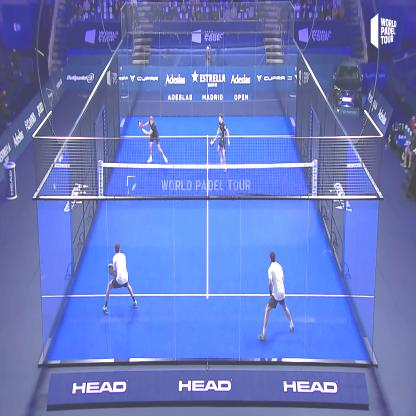ball: (128, 176, 137, 195)
